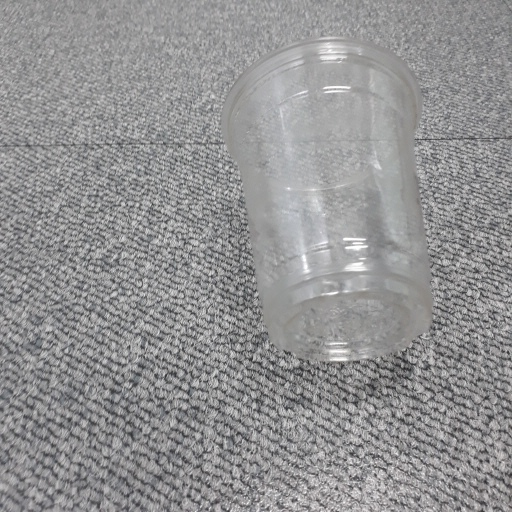Plastic_2: (218, 35, 440, 362)
